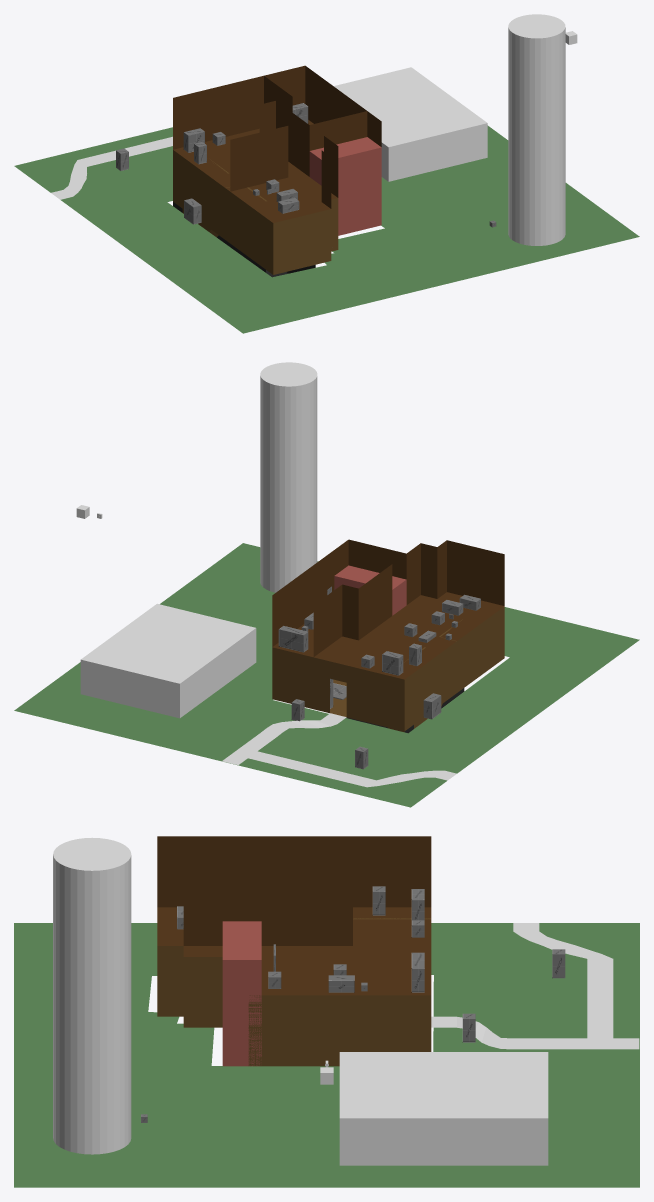
Rendered from Burggraben.glb.
3 renders of one model, top to bottom at view 1: azimuth 30°, elevation 25°; view 2: azimuth 150°, elevation 25°; view 3: azimuth 270°, elevation 25°, orthographic. The views are drawn at different scales.
Visible parts, largest first — view 1: !Garden Plane, !Second Floor Plane, Baum, Schuppen, !Ground Plane, Staircase, Gehweg; view 2: !Garden Plane, !Second Floor Plane, Schuppen, Baum, !Ground Plane, Gehweg, Staircase, BÜCHERREGAL; view 3: !Garden Plane, !Second Floor Plane, Baum, Schuppen, !Ground Plane, Gehweg, Staircase, BÜCHERREGAL.
Boxes of the visible parts, x1,y1,x2,y2 form: !Garden Plane: (14,125,639,333); !Second Floor Plane: (173,65,381,222); Baum: (508,14,565,245); Schuppen: (334,67,487,181); !Ground Plane: (173,150,338,274); Staircase: (309,137,381,235); Gehweg: (51,136,172,199); !Garden Plane: (14,543,639,807); !Second Floor Plane: (272,539,504,679); Schuppen: (80,603,256,718); Baum: (260,362,317,592); !Ground Plane: (272,606,504,732); Gehweg: (222,713,456,787); Staircase: (334,565,406,615); BÜCHERREGAL: (278,626,308,652); !Garden Plane: (14,923,639,1187); !Second Floor Plane: (157,836,431,995); Baum: (53,837,131,1154); Schuppen: (339,1052,548,1165); !Ground Plane: (157,918,431,1066); Gehweg: (431,923,639,1049); Staircase: (222,921,261,1066); BÜCHERREGAL: (411,952,424,992).
Size of the model in its own units: 54 by 30 by 48.
Materials: 50 (45 with a texture image).
